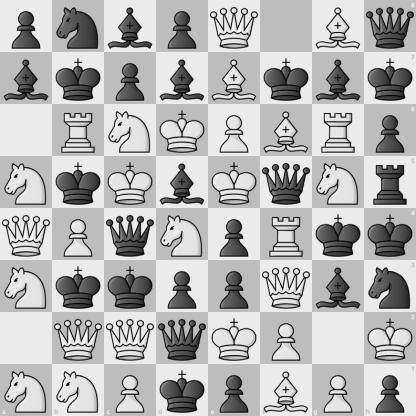B: (260, 364, 312, 416), (209, 53, 260, 104), (261, 105, 312, 156), (313, 1, 364, 52)
K: (364, 312, 416, 364), (105, 157, 156, 208), (157, 105, 208, 156), (209, 157, 260, 208), (209, 313, 260, 364)
N: (0, 364, 52, 416), (52, 364, 104, 416), (1, 157, 52, 208), (1, 261, 52, 312), (105, 105, 156, 156), (157, 209, 208, 260), (313, 157, 364, 208)
P: (104, 364, 156, 416), (312, 364, 364, 416), (53, 209, 104, 260), (209, 105, 260, 156), (261, 313, 312, 364)
Q: (1, 209, 52, 260), (53, 313, 104, 364), (105, 313, 156, 364), (209, 1, 260, 52), (261, 261, 312, 312)
R: (53, 105, 104, 156), (261, 209, 312, 260), (313, 105, 364, 156)
b: (1, 53, 52, 104), (105, 1, 156, 52), (157, 53, 208, 104), (157, 157, 208, 208), (313, 53, 364, 104), (313, 261, 364, 312)
board: (0, 0, 415, 415)
k: (156, 364, 209, 416), (364, 52, 416, 104), (364, 209, 416, 260), (53, 53, 104, 104), (53, 157, 104, 208), (53, 261, 104, 312), (105, 261, 156, 312), (261, 53, 312, 104), (313, 209, 364, 260)
n: (364, 260, 416, 312), (53, 1, 104, 52)
p: (364, 104, 416, 156), (364, 364, 416, 416), (209, 364, 260, 416), (1, 1, 52, 52), (105, 53, 156, 104), (157, 1, 208, 52), (157, 261, 208, 312), (209, 209, 260, 260), (209, 261, 260, 312)
q: (364, 0, 416, 52), (105, 209, 156, 260), (157, 313, 208, 364), (261, 157, 312, 208)
r: (364, 156, 416, 209)
